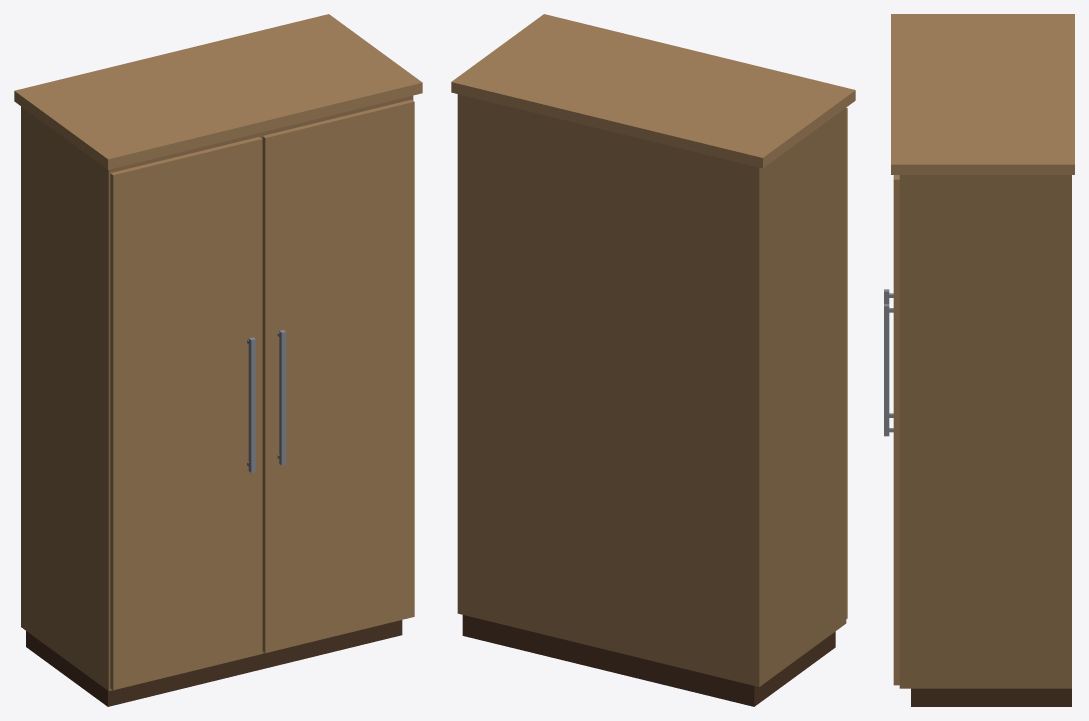
Rendered from wardrobe.glb.
3 renders of one model, left to right at view 1: azimuth 30°, elevation 25°; view 2: azimuth 150°, elevation 25°; view 3: azimuth 270°, elevation 25°, orthographic.
Parts seen in each view (by area): view 1: Wardrobe; view 2: Wardrobe; view 3: Wardrobe.
Part boxes in pixels (bbox=[...]): Wardrobe: bbox=[14, 14, 422, 706]; Wardrobe: bbox=[451, 14, 855, 706]; Wardrobe: bbox=[884, 14, 1074, 706].
Size of the model in its own units: 1.24 by 2.1 by 0.664.
Materials: 1 (1 with a texture image).
